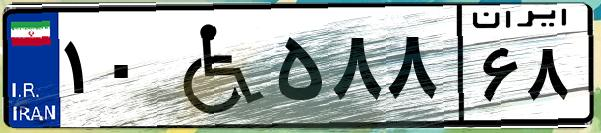0: (110, 28, 158, 98)
1: (57, 26, 110, 100)
5: (270, 28, 330, 110)
6: (475, 38, 525, 113)
8: (385, 28, 445, 110), (330, 28, 385, 110), (525, 38, 570, 115)
ژ (معلولین و جانبازان): (158, 12, 270, 120)
